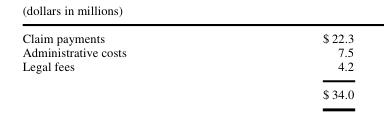table: (21, 28, 353, 101)
table column: (21, 28, 223, 101), (223, 28, 353, 101)
table row: (21, 79, 353, 101), (21, 58, 353, 79), (21, 28, 353, 44), (21, 44, 353, 58)
